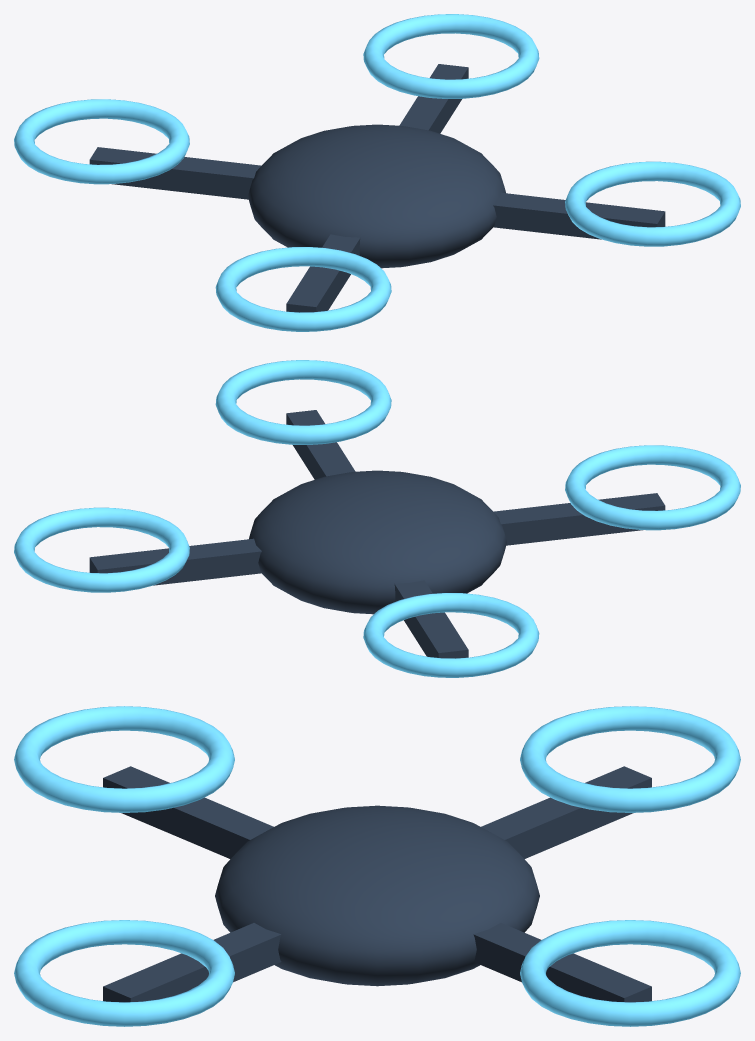
Rendered from drone.glb.
3 views of the same model, one above another, from view 1: azimuth 30°, elevation 25°; view 2: azimuth 150°, elevation 25°; view 3: azimuth 270°, elevation 25° (orthographic). The views are drawn at different scales.
Parts seen in each view (by area): view 1: Gray Ring original inspection drone; view 2: Gray Ring original inspection drone; view 3: Gray Ring original inspection drone.
Boxes of the visible parts, x1,y1,x2,y2 form: Gray Ring original inspection drone: (14,14,740,331); Gray Ring original inspection drone: (14,360,740,677); Gray Ring original inspection drone: (14,706,740,1026).
Bounding box in the file's own units: 3.35 × 0.6 × 3.35.
